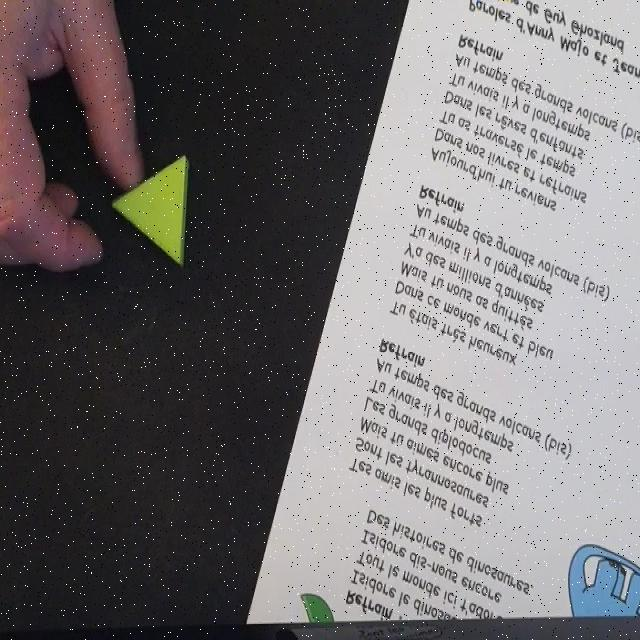triangle: (111, 154, 189, 269)
